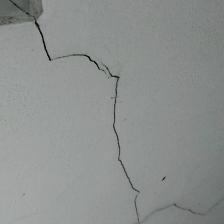Medium: (35, 18, 153, 196)
